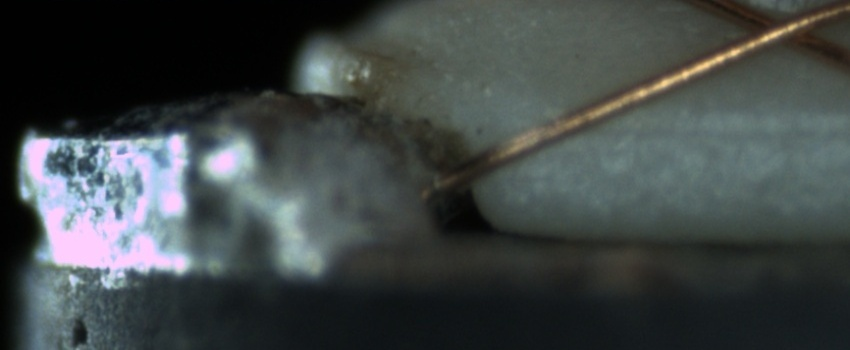CL: (715, 2, 839, 57)
DL: (558, 96, 844, 161)
